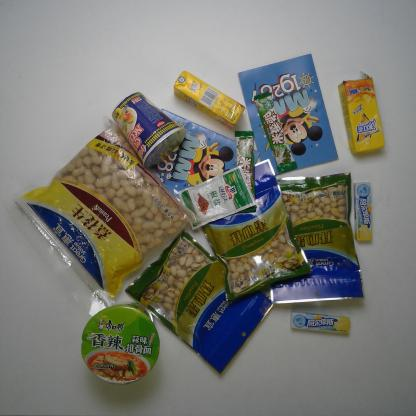Candy: (290, 310, 352, 336), (354, 181, 373, 243)
Chocolate: (252, 91, 300, 175), (233, 128, 258, 212)
Dried Food: (13, 117, 200, 311)
Dried Fruit: (124, 227, 276, 375), (187, 160, 311, 302), (256, 173, 365, 304)
Drink: (174, 71, 244, 129), (338, 70, 386, 154)
Instant Noodles: (80, 302, 160, 384), (111, 92, 185, 169)
Seasoner: (178, 165, 256, 231)
Stationery: (136, 108, 260, 221), (236, 54, 338, 182)
